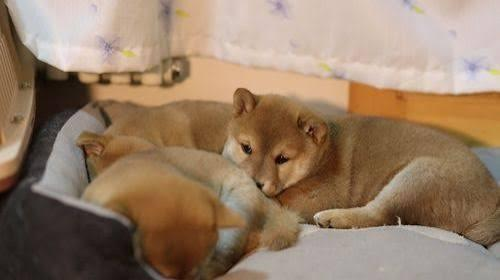puppy-dog: (224, 84, 500, 252), (79, 150, 292, 278), (78, 90, 322, 178)
